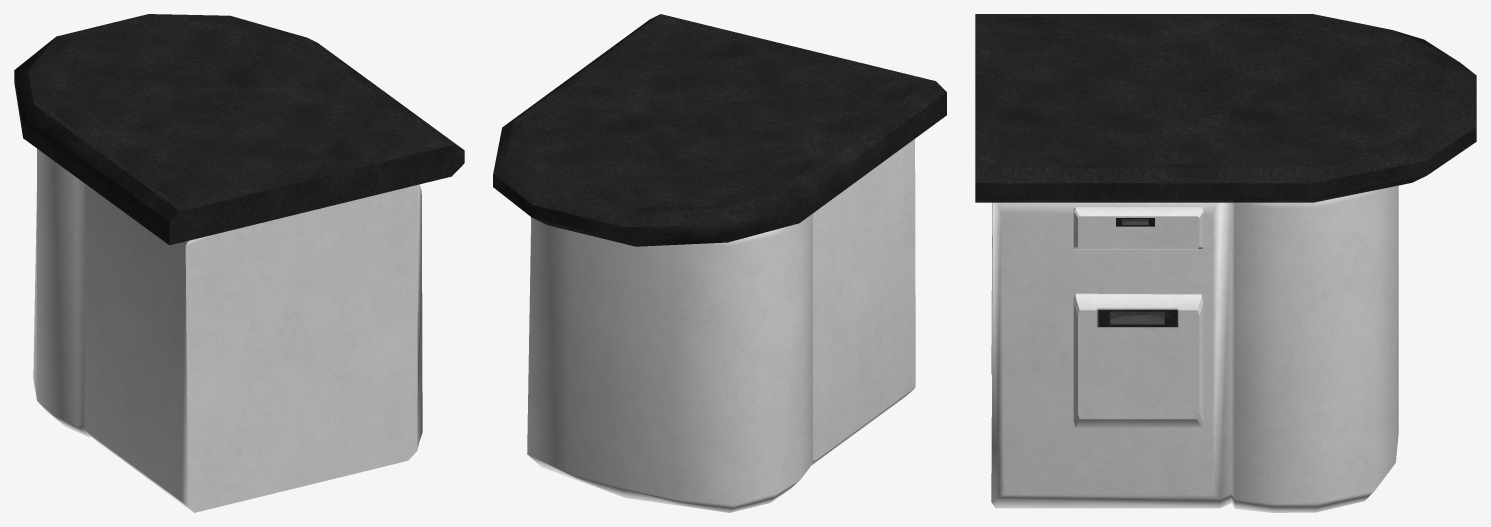
The model's file is CounterCornerRight_geo.fbx.
3 views of the same model, side by side, from view 1: azimuth 30°, elevation 25°; view 2: azimuth 150°, elevation 25°; view 3: azimuth 270°, elevation 25° (orthographic). The views are drawn at different scales.
Visible parts, largest first — view 1: Counter_R_RoundEnd1, R_RoundCounterTop; view 2: Counter_R_RoundEnd1, R_RoundCounterTop; view 3: Counter_R_RoundEnd1, R_RoundCounterTop, Rctngl_Pnl1, Rctngl_Pnl.
Boxes of the visible parts, bbox=[...] form: Counter_R_RoundEnd1: bbox=[33, 148, 422, 512]; R_RoundCounterTop: bbox=[14, 14, 464, 245]; Counter_R_RoundEnd1: bbox=[527, 139, 915, 512]; R_RoundCounterTop: bbox=[493, 14, 946, 246]; Counter_R_RoundEnd1: bbox=[991, 185, 1398, 512]; R_RoundCounterTop: bbox=[975, 14, 1476, 202]; Rctngl_Pnl1: bbox=[1073, 293, 1203, 427]; Rctngl_Pnl: bbox=[1073, 207, 1203, 249].
Bounding box in the file's own units: 98.01 × 99.62 × 125.
Materials: 1 (1 with a texture image).
